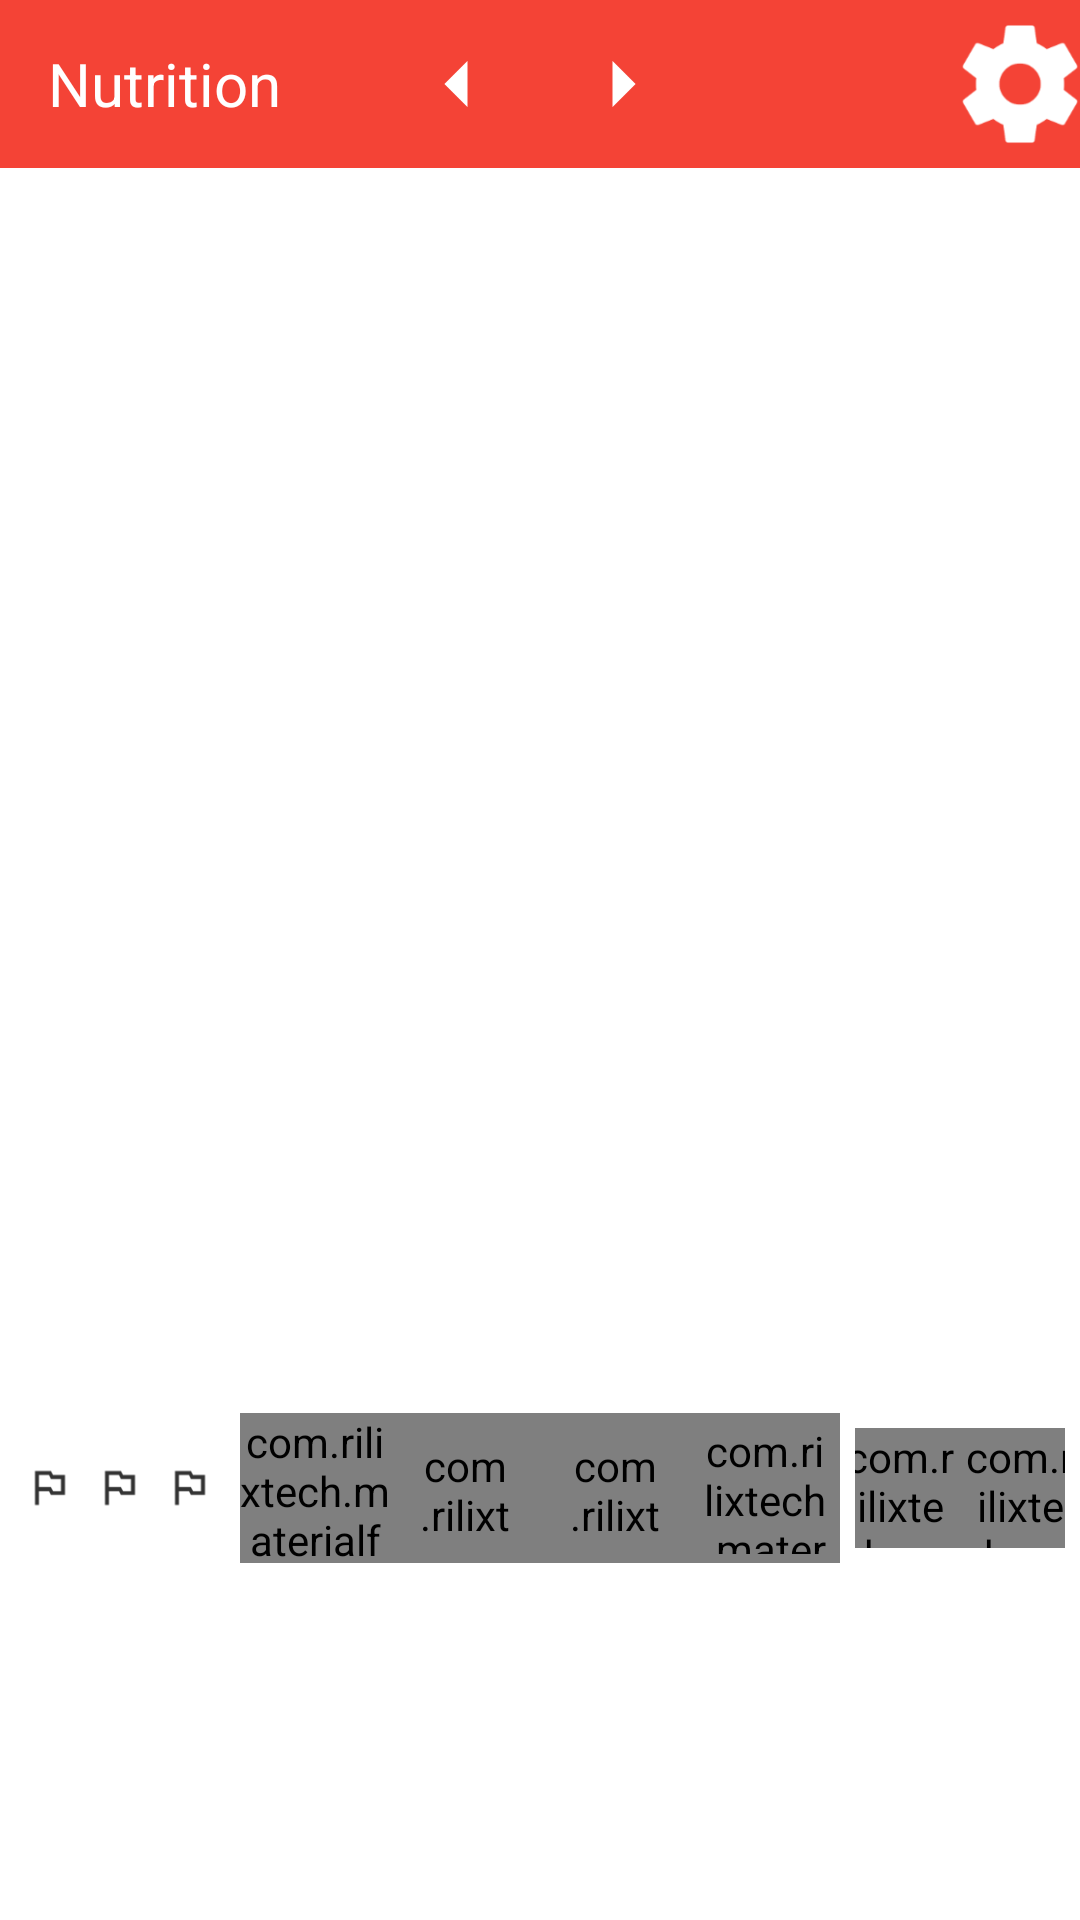

Locate icon controls on the screen. Image size 1080 x 1920, boxes as box(x1, y1, x2, y2).
flag: box(34, 1470, 66, 1506), box(104, 1470, 136, 1506), box(174, 1470, 206, 1506)
myarrow left: box(444, 61, 468, 107)
myarrow right: box(612, 61, 636, 107)
settings: box(962, 25, 1078, 143)
